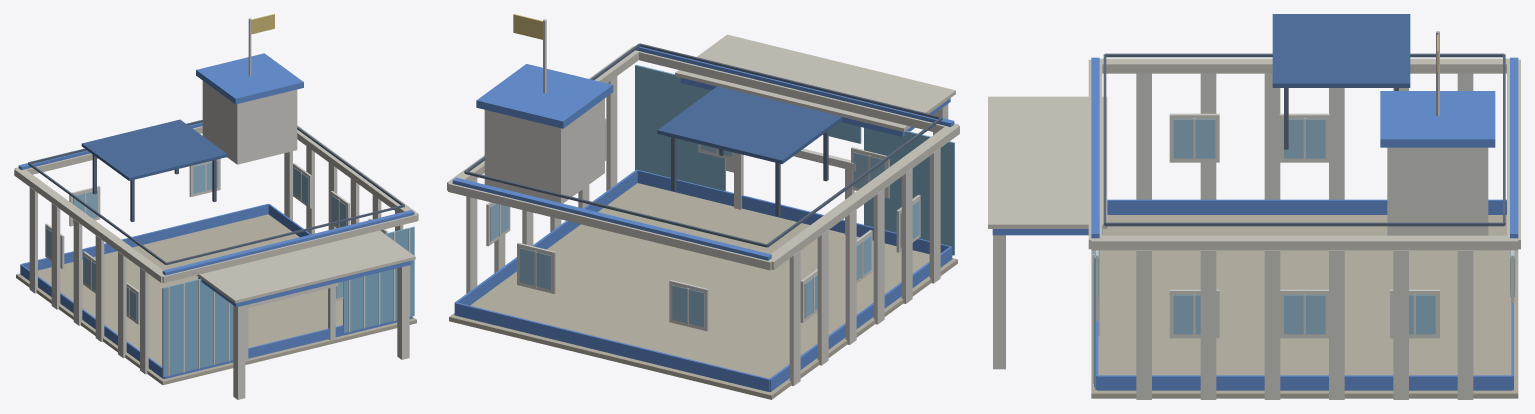
The model's file is facade_student_centre.glb.
3 views of the same model, side by side, from view 1: azimuth 30°, elevation 25°; view 2: azimuth 150°, elevation 25°; view 3: azimuth 270°, elevation 25° (orthographic). The views are drawn at different scales.
Bounding box in the file's own units: 9.44 × 8 × 11.61.
